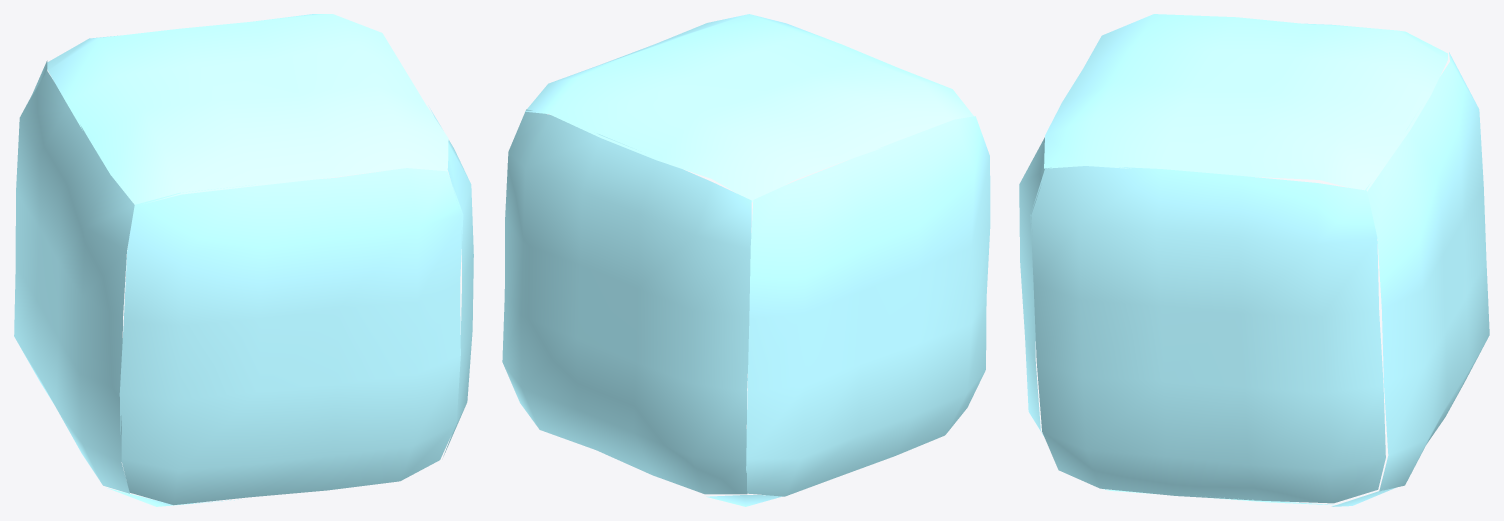
The model's file is ice-cube.glb.
3 renders of one model, left to right at view 1: azimuth 30°, elevation 25°; view 2: azimuth 150°, elevation 25°; view 3: azimuth 270°, elevation 25°, orthographic. The views are drawn at different scales.
Size of the model in its own units: 0.9253 by 0.8469 by 0.9357.
